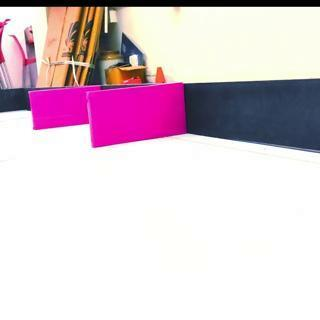xparking: (89, 92, 185, 138), (30, 89, 86, 127)
